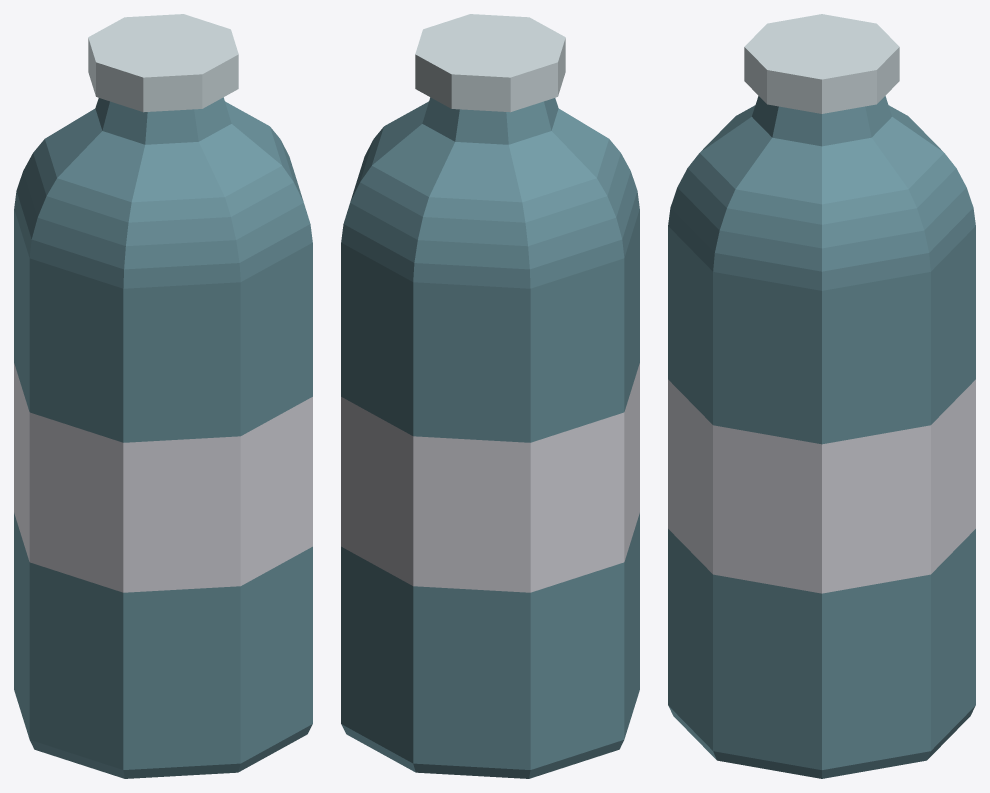
Rendered from bottle.fbx.
3 views of the same model, side by side, from view 1: azimuth 30°, elevation 25°; view 2: azimuth 150°, elevation 25°; view 3: azimuth 270°, elevation 25° (orthographic).
Parts seen in each view (by area): view 1: Cylinder; view 2: Cylinder; view 3: Cylinder.
Part boxes in pixels (bbox=[...]): Cylinder: bbox=[14, 14, 312, 778]; Cylinder: bbox=[341, 14, 639, 778]; Cylinder: bbox=[668, 14, 975, 778].
Bounding box in the file's own units: 170 × 410 × 170.
